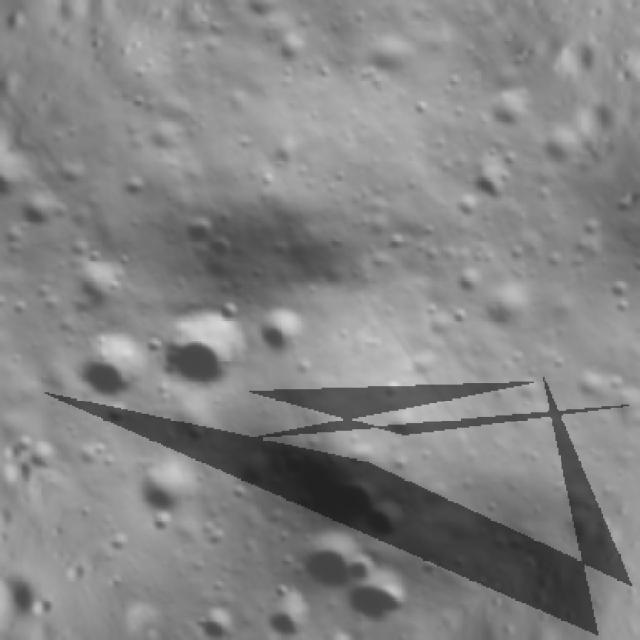crater: (138, 284, 268, 418), (57, 312, 168, 419), (331, 555, 437, 640), (276, 519, 367, 607), (244, 292, 324, 368), (129, 454, 205, 532), (0, 131, 63, 215), (462, 152, 528, 218), (126, 583, 182, 640), (189, 595, 251, 640), (299, 0, 396, 14)
